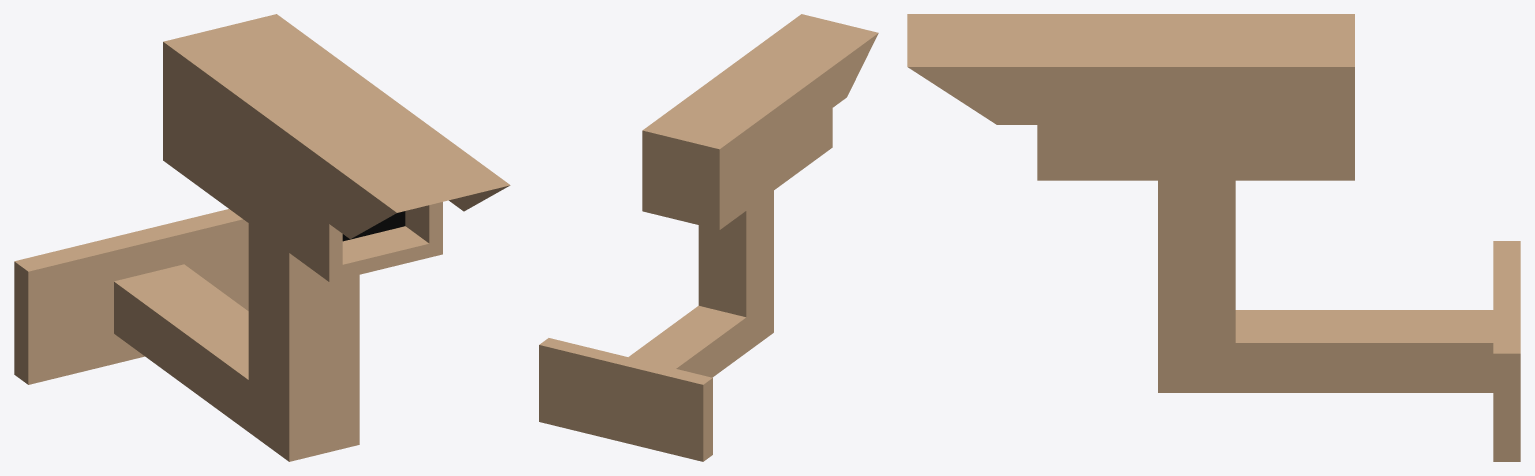
File: SecurityCamera.fbx
3 renders of one model, left to right at view 1: azimuth 30°, elevation 25°; view 2: azimuth 150°, elevation 25°; view 3: azimuth 270°, elevation 25°, orthographic. The views are drawn at different scales.
Parts seen in each view (by area): view 1: SecurityCamera, Security Camera.001; view 2: Security Camera.001, SecurityCamera; view 3: Security Camera.001, SecurityCamera.
Boxes of the visible parts, x1,y1,x2,y2 form: SecurityCamera: (14, 209, 359, 461); Security Camera.001: (163, 14, 510, 281); Security Camera.001: (642, 14, 878, 229); SecurityCamera: (539, 191, 773, 461); Security Camera.001: (907, 14, 1354, 180); SecurityCamera: (1158, 180, 1520, 461).
Bounding box in the file's own units: 123 × 185 × 283.
